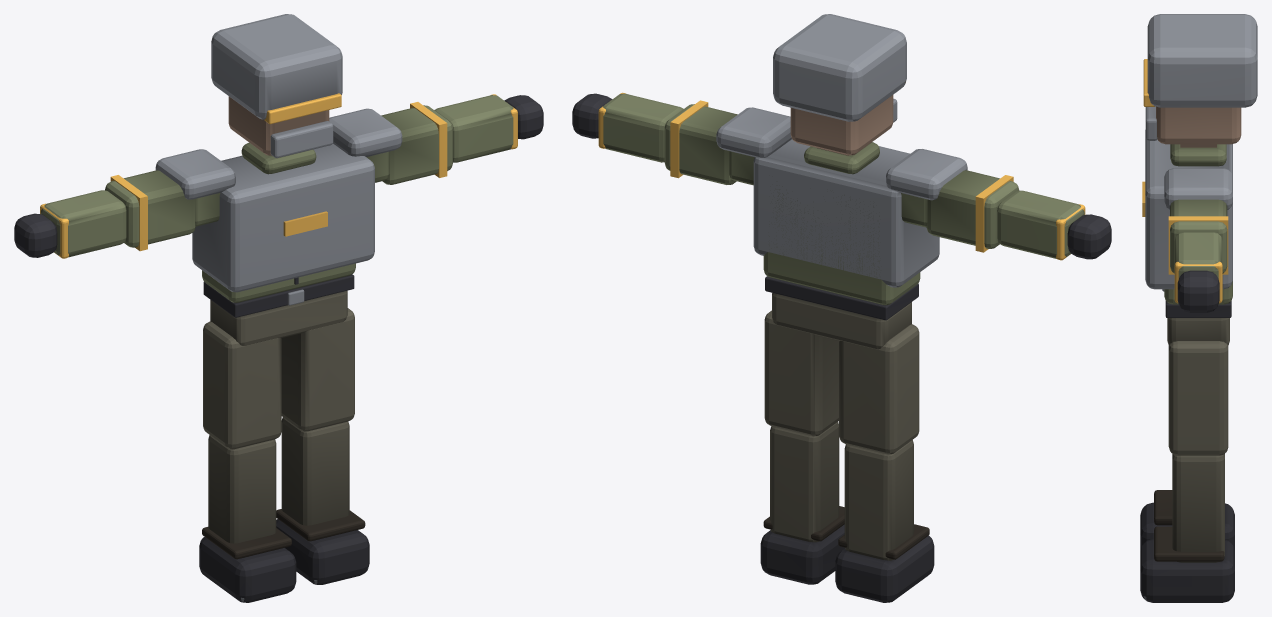
The model's file is kade.glb.
The picture shows the model from 3 angles, left to right: view 1: azimuth 30°, elevation 25°; view 2: azimuth 150°, elevation 25°; view 3: azimuth 270°, elevation 25°; orthographic projection.
Parts seen in each view (by area): view 1: Kade_Mercer; view 2: Kade_Mercer; view 3: Kade_Mercer.
Part boxes in pixels (x1,y1,x2,y2): Kade_Mercer: (14,14,543,602); Kade_Mercer: (572,14,1111,602); Kade_Mercer: (1140,14,1257,602).
Bounding box in the file's own units: 2.06 × 2.03 × 0.3972.
